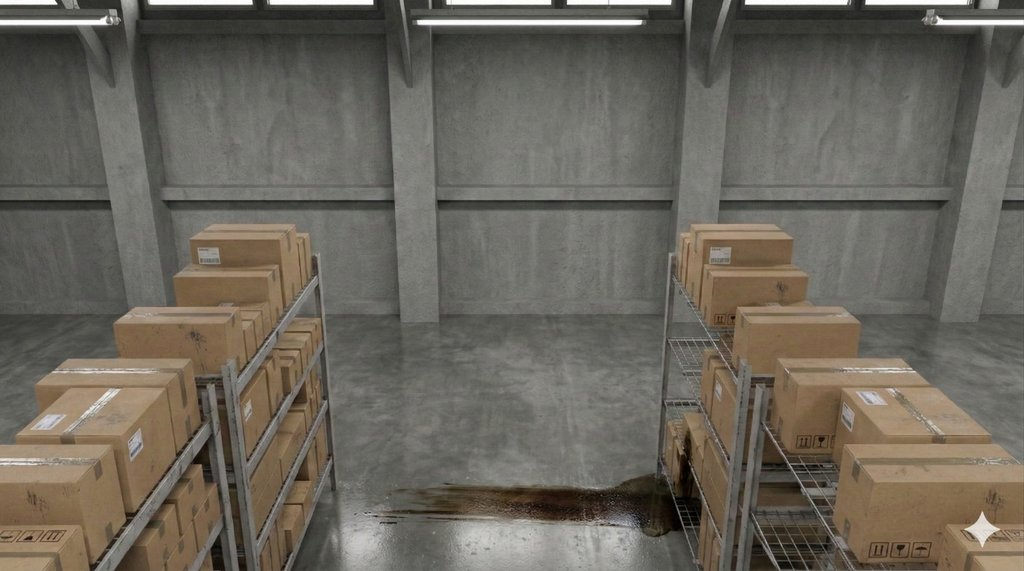spill: (377, 452, 685, 540)
